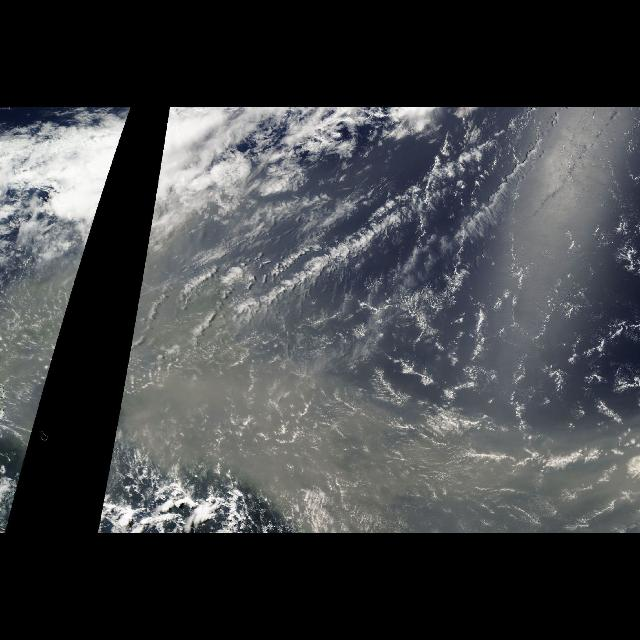Gravel: (166, 362, 594, 516)
